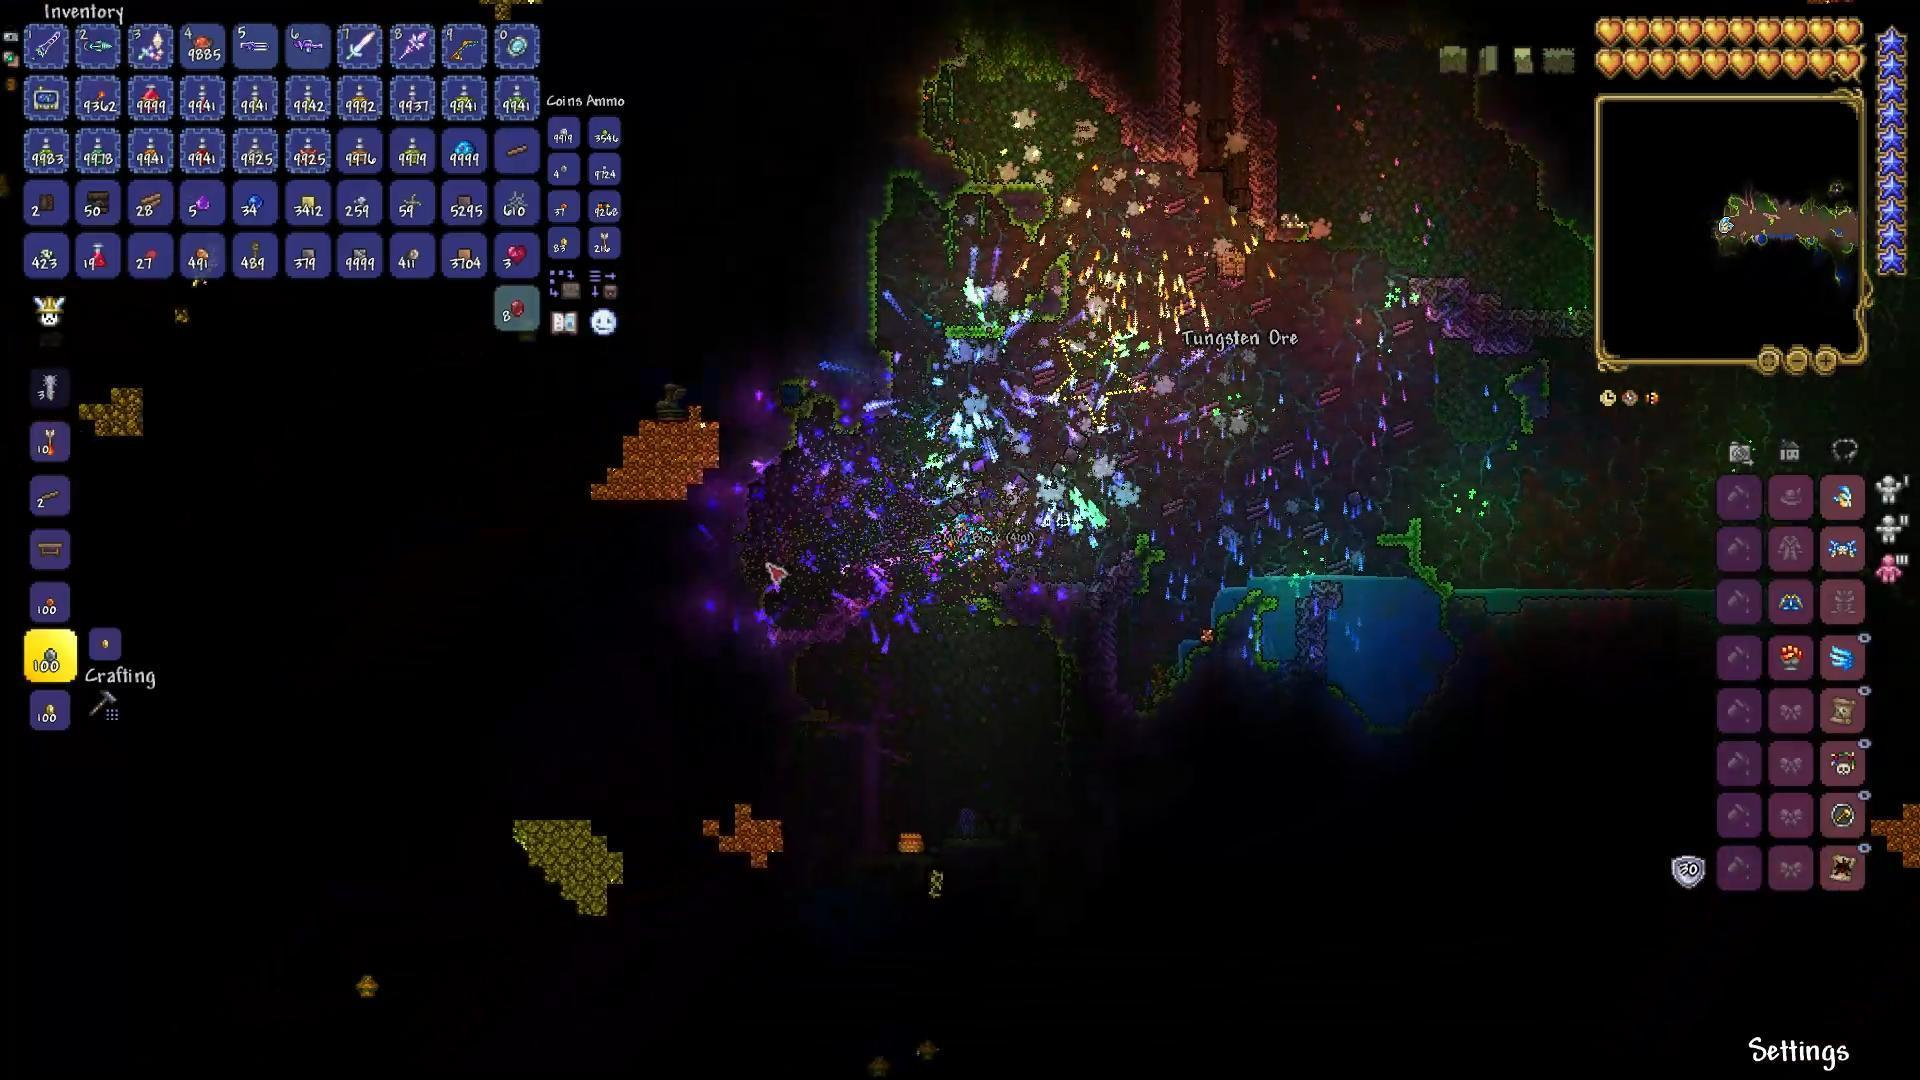lifeC: (506, 243, 529, 265)
pot: (893, 825, 923, 858), (356, 972, 380, 1002)
